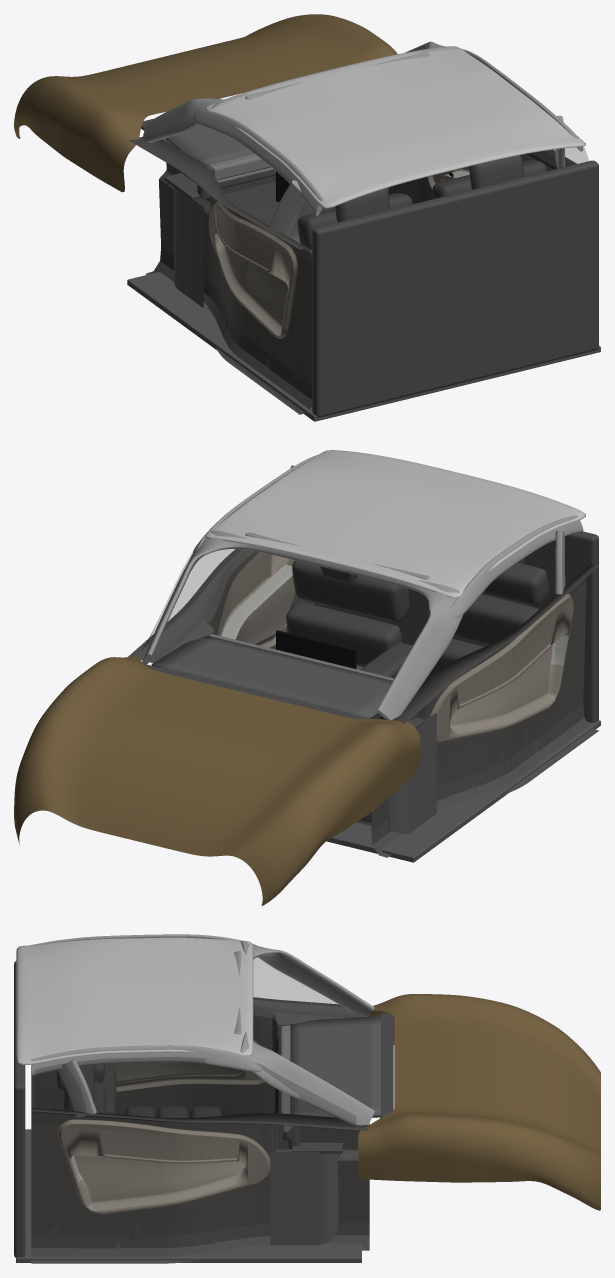
File: cabin.6cf6f7b8.glb
The picture shows the model from 3 angles, top to bottom: view 1: azimuth 30°, elevation 25°; view 2: azimuth 150°, elevation 25°; view 3: azimuth 270°, elevation 25°; orthographic projection. The views are drawn at different scales.
Visible parts, largest first — view 1: Cabin; view 2: Cabin, Glass; view 3: Cabin, Glass.
Boxes of the visible parts, x1=… form: Cabin: x1=14, y1=14, x2=600, y2=421; Cabin: x1=14, y1=450, x2=600, y2=905; Glass: x1=142, y1=547, x2=241, y2=649; Cabin: x1=14, y1=934, x2=600, y2=1263; Glass: x1=35, y1=957, x2=355, y2=1130.
Size of the model in its own units: 1.75 by 1.2 by 3.07.
